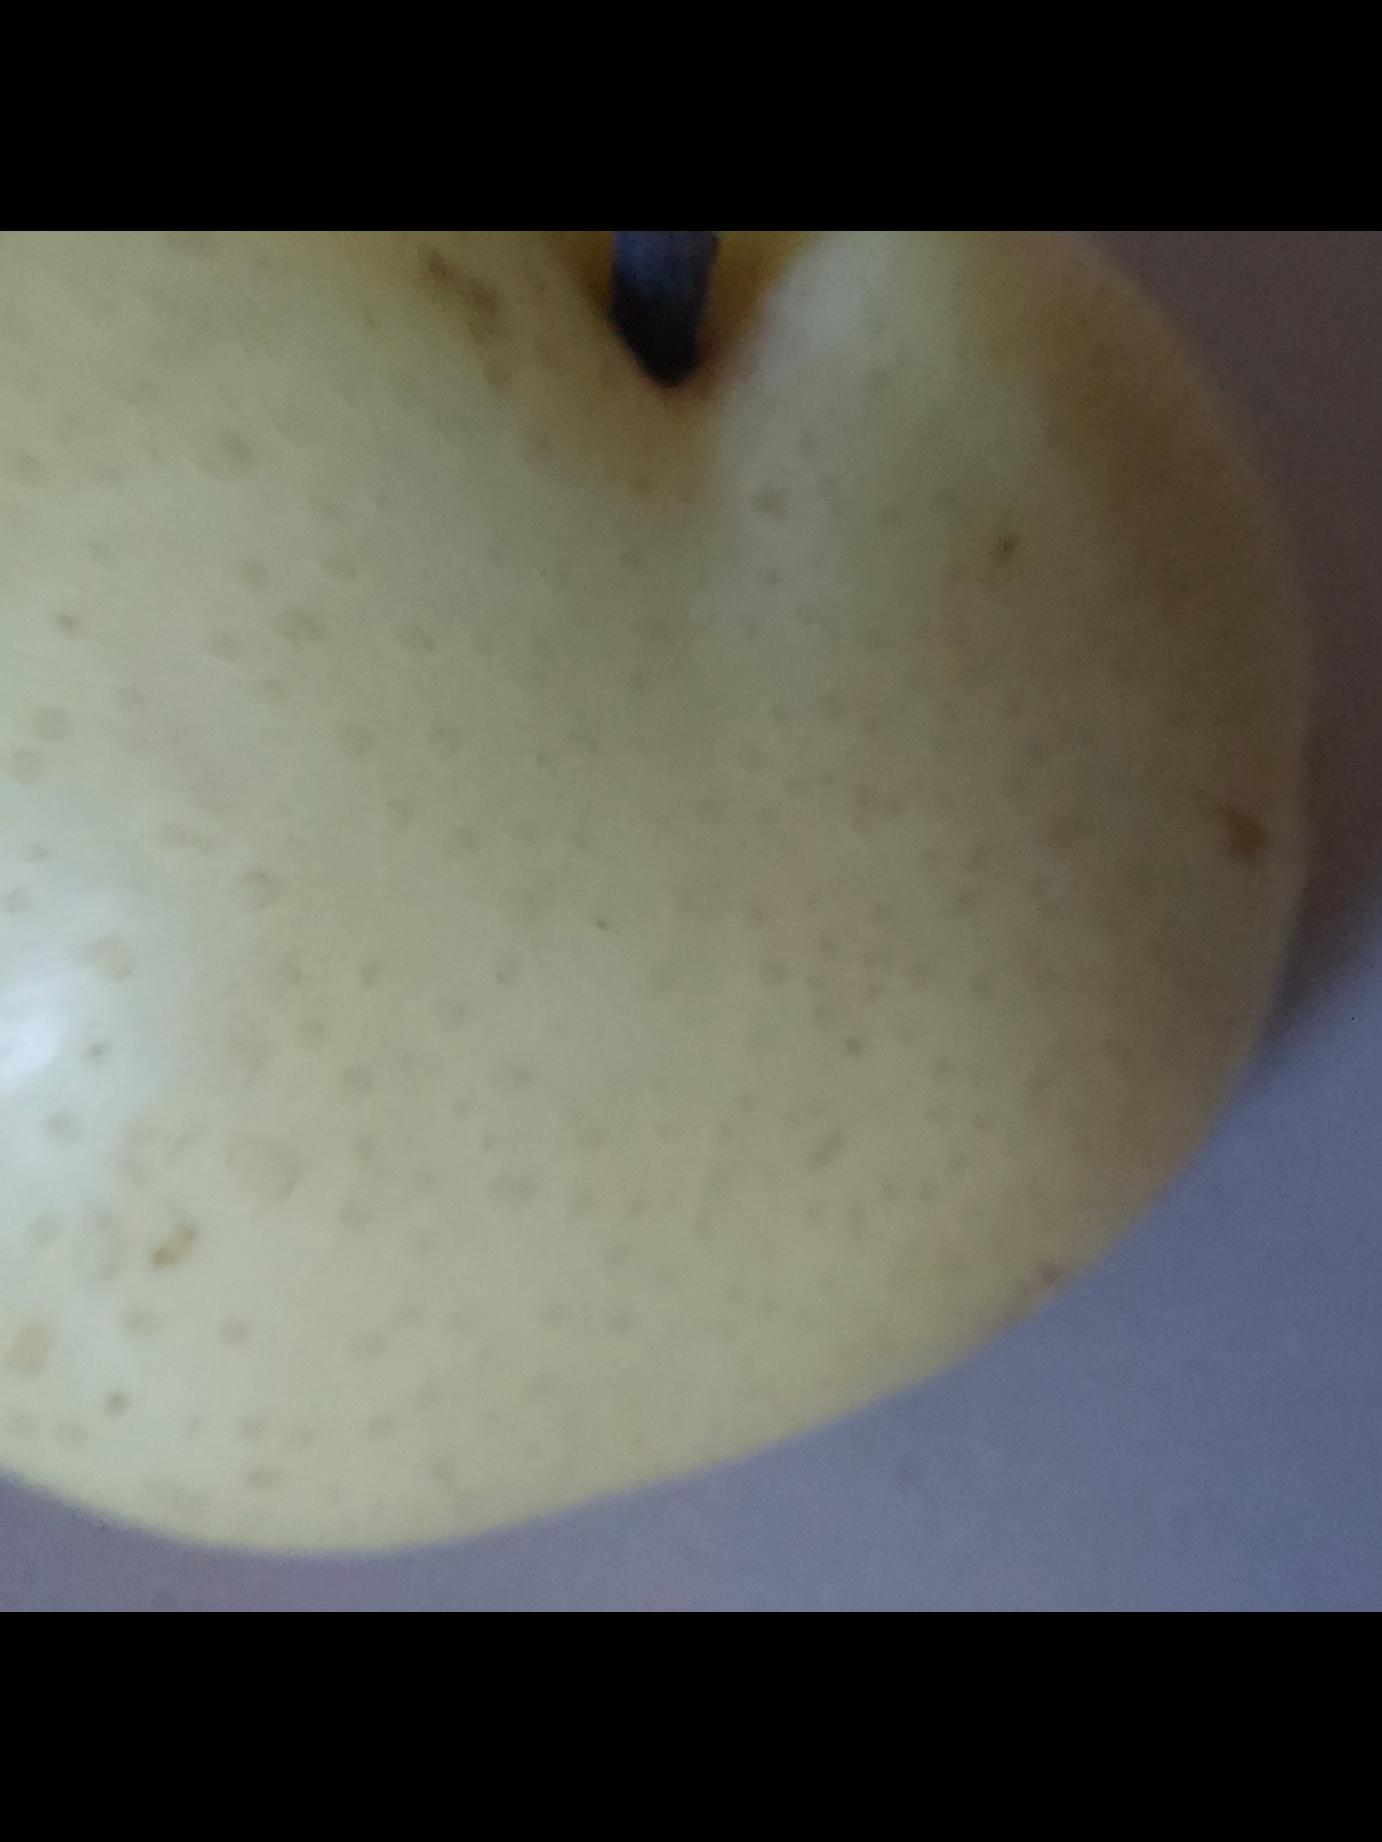Good Pear: (0, 229, 1327, 1613)
